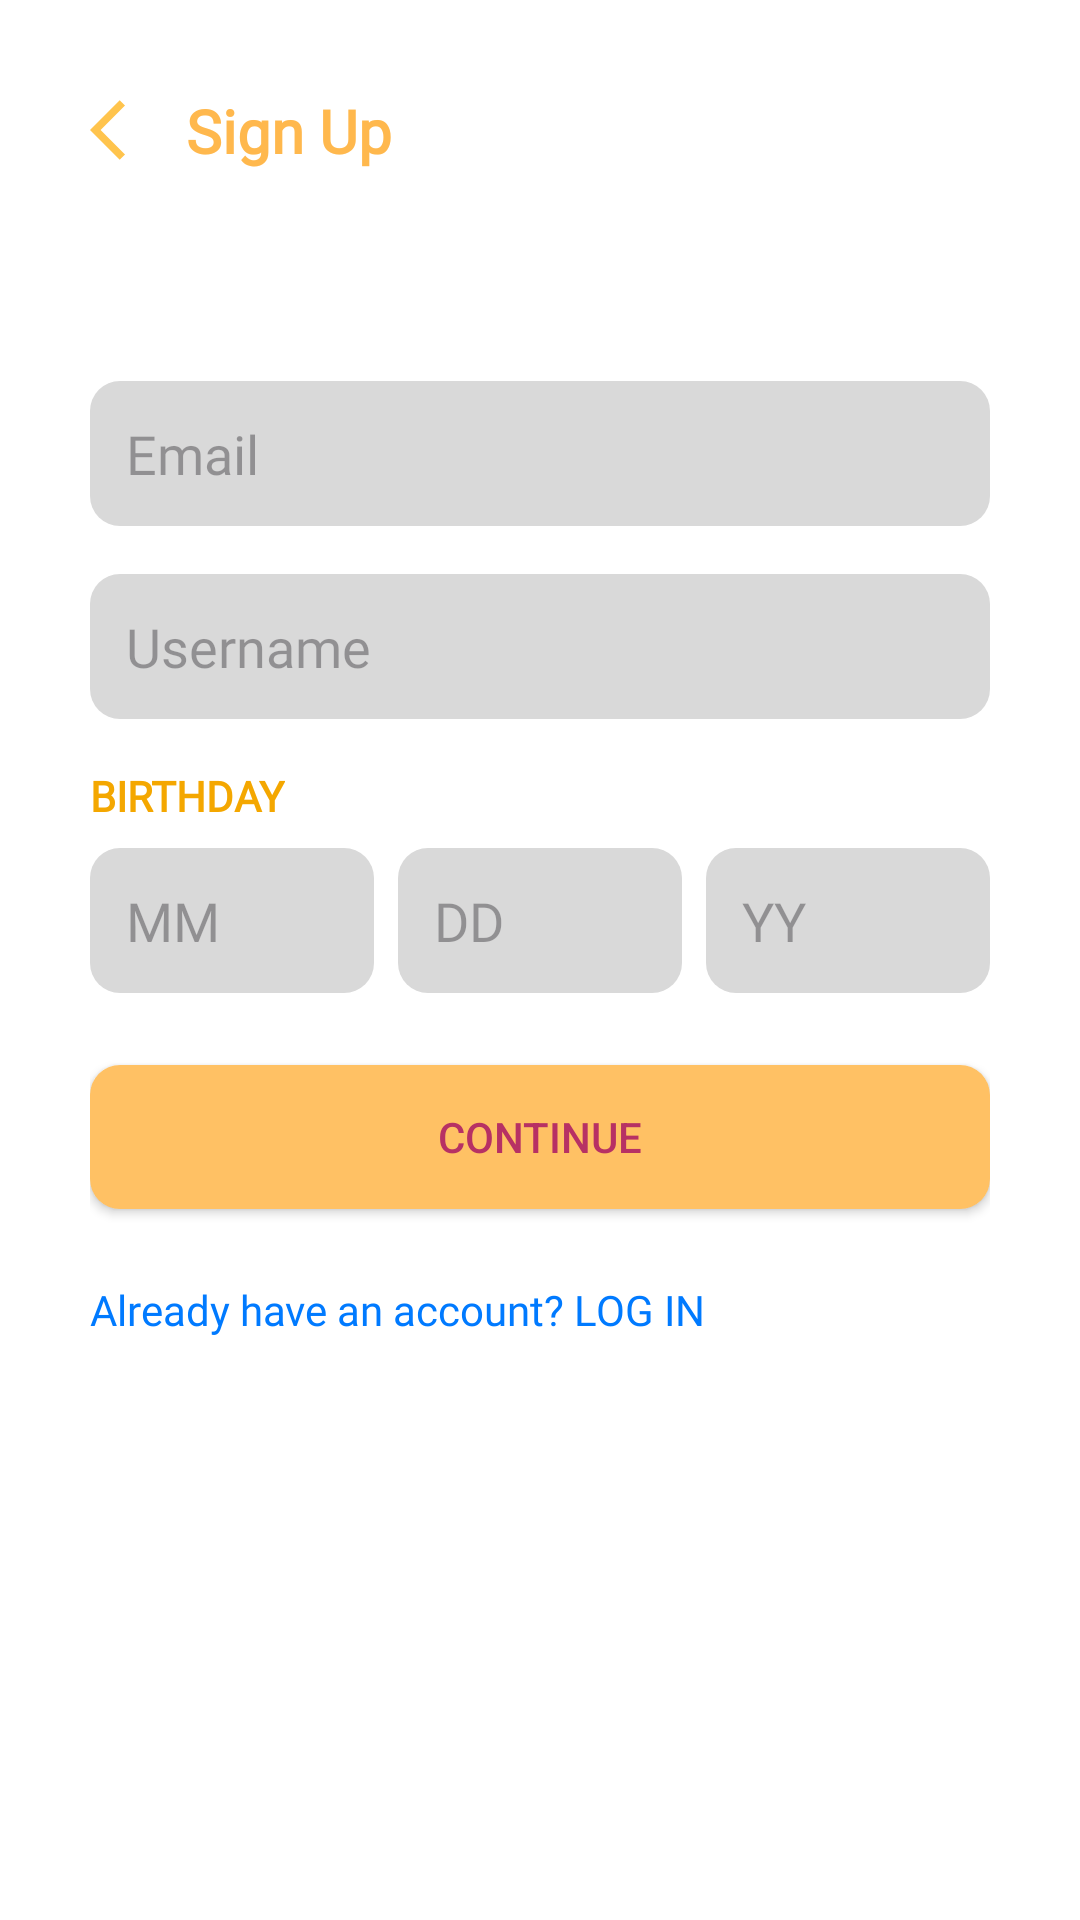

Screen size 1080px x 1920px. Icon name, then its center in pixels as [x,y]:
back: [107,130]
